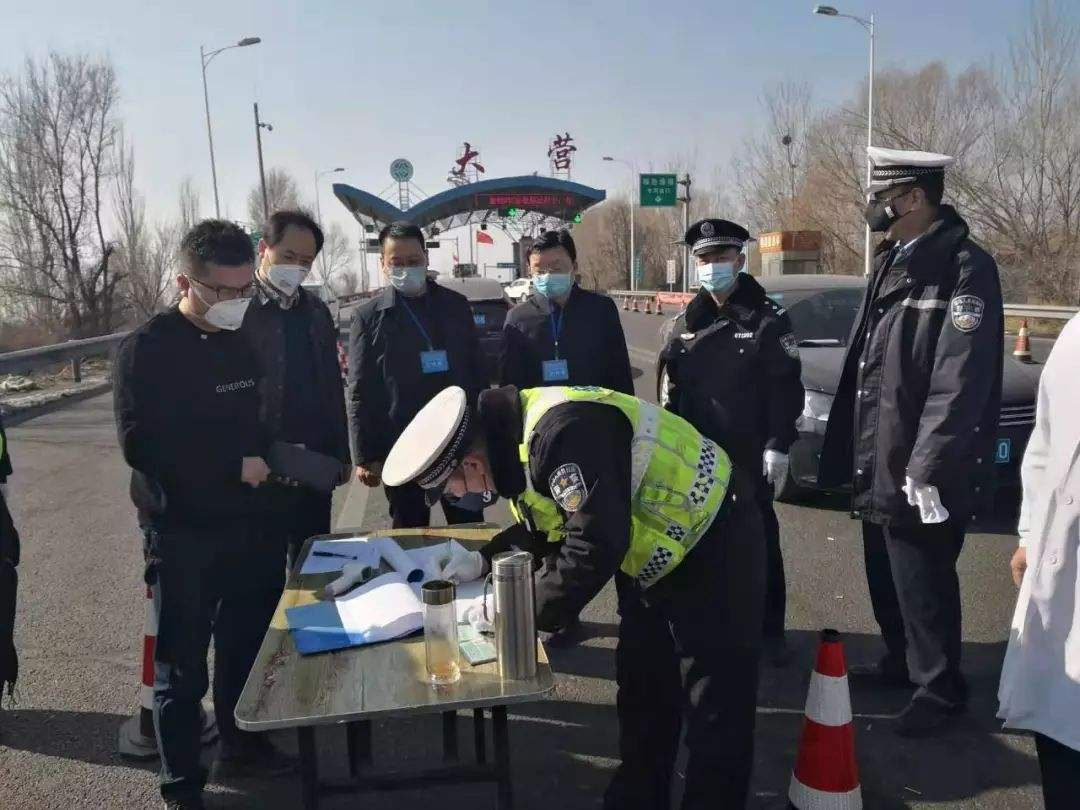Mask: (191, 252, 252, 339), (261, 228, 318, 298), (861, 184, 928, 241), (523, 244, 578, 305), (438, 465, 502, 516), (378, 236, 430, 297), (688, 249, 739, 304)
